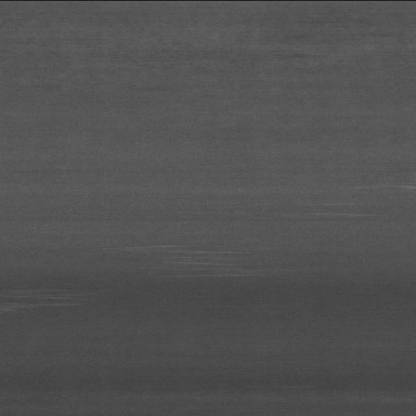silk_spot: (116, 231, 277, 285)
